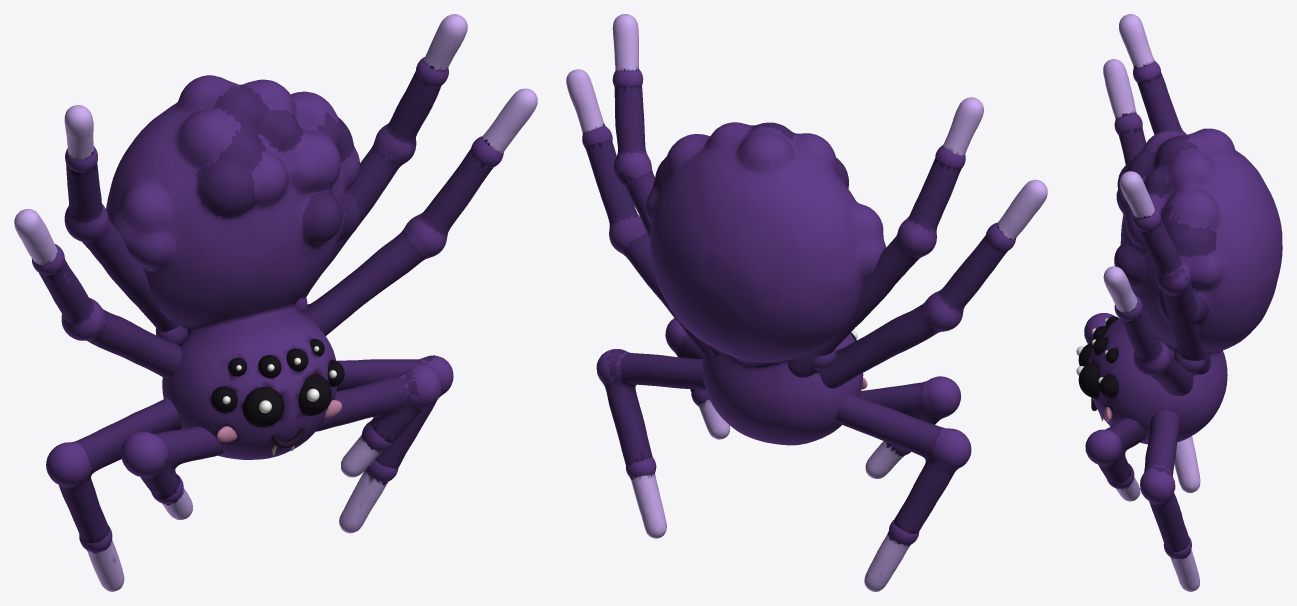
The model's file is kan-du-ta-emot-mitt-paket.glb.
3 renders of one model, left to right at view 1: azimuth 30°, elevation 25°; view 2: azimuth 150°, elevation 25°; view 3: azimuth 270°, elevation 25°, orthographic. The views are drawn at different scales.
Visible parts, largest first — view 1: aranha__r0, abraco__r0, acenoD__r0, acenoE__r0, aranha__r8, aranha__r10; view 2: aranha__r0, abraco__r0, acenoE__r0, acenoD__r0; view 3: aranha__r0, abraco__r0, acenoD__r0, acenoE__r0, aranha__r10, acenoE__r1, acenoE__r2, acenoD__r2, aranha__r14, aranha__r1, acenoD__r1.
Boxes of the visible parts, x1=… form: aranha__r0: x1=106, y1=75, x2=360, y2=459; abraco__r0: x1=46, y1=355, x2=453, y2=591; acenoD__r0: x1=301, y1=14, x2=537, y2=335; acenoE__r0: x1=14, y1=105, x2=181, y2=378; aranha__r8: x1=242, y1=387, x2=284, y2=427; aranha__r10: x1=298, y1=374, x2=331, y2=415; aranha__r0: x1=645, y1=122, x2=885, y2=445; abraco__r0: x1=596, y1=318, x2=971, y2=591; acenoE__r0: x1=788, y1=97, x2=1047, y2=388; acenoD__r0: x1=566, y1=14, x2=720, y2=356; aranha__r0: x1=1088, y1=128, x2=1282, y2=444; abraco__r0: x1=1084, y1=313, x2=1200, y2=591; acenoD__r0: x1=1103, y1=171, x2=1210, y2=395; acenoE__r0: x1=1103, y1=14, x2=1186, y2=164; aranha__r10: x1=1078, y1=362, x2=1099, y2=398; acenoE__r1: x1=1114, y1=113, x2=1142, y2=134; acenoE__r2: x1=1133, y1=61, x2=1160, y2=82; acenoD__r2: x1=1133, y1=206, x2=1161, y2=231; aranha__r14: x1=1100, y1=374, x2=1118, y2=397; aranha__r1: x1=1174, y1=349, x2=1205, y2=373; acenoD__r1: x1=1114, y1=295, x2=1142, y2=321.
Bounding box in the file's own units: 1.88 × 1.82 × 0.7591.
